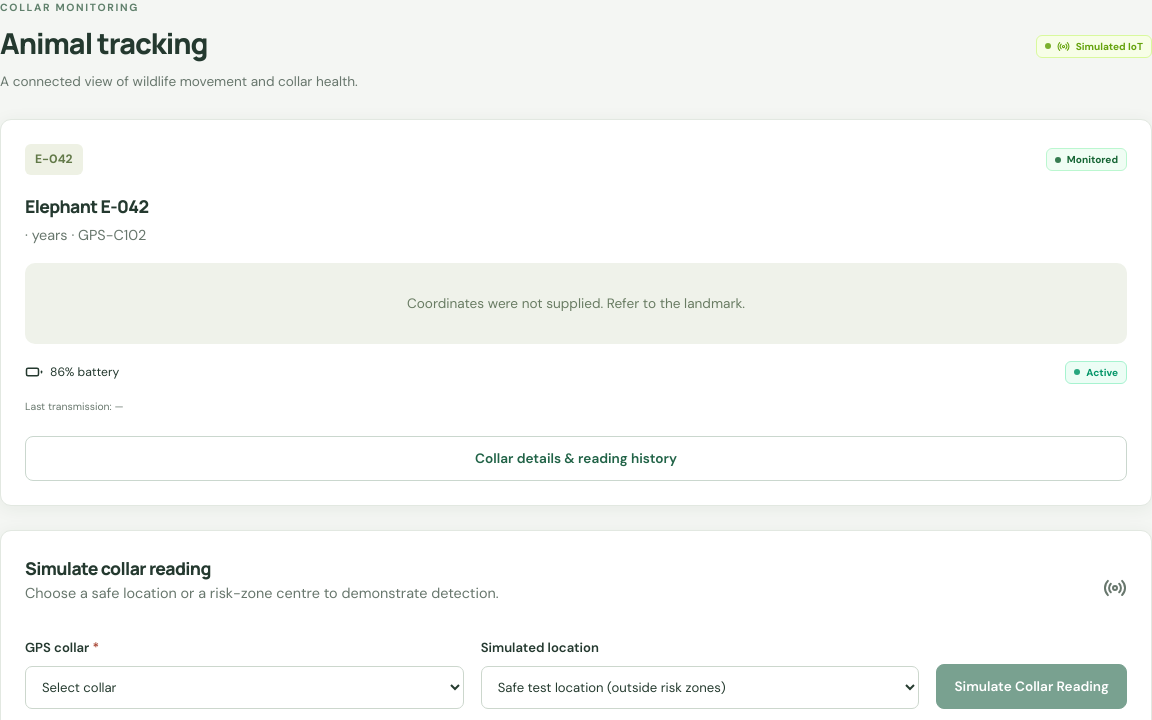
Test: Collar monitoring screen › loads saved collar reading history
This screenshot has width=1152, height=720.
Click the button "Collar details & reading history": point(576, 458) [25,436,1127,481]
(page scrolled)
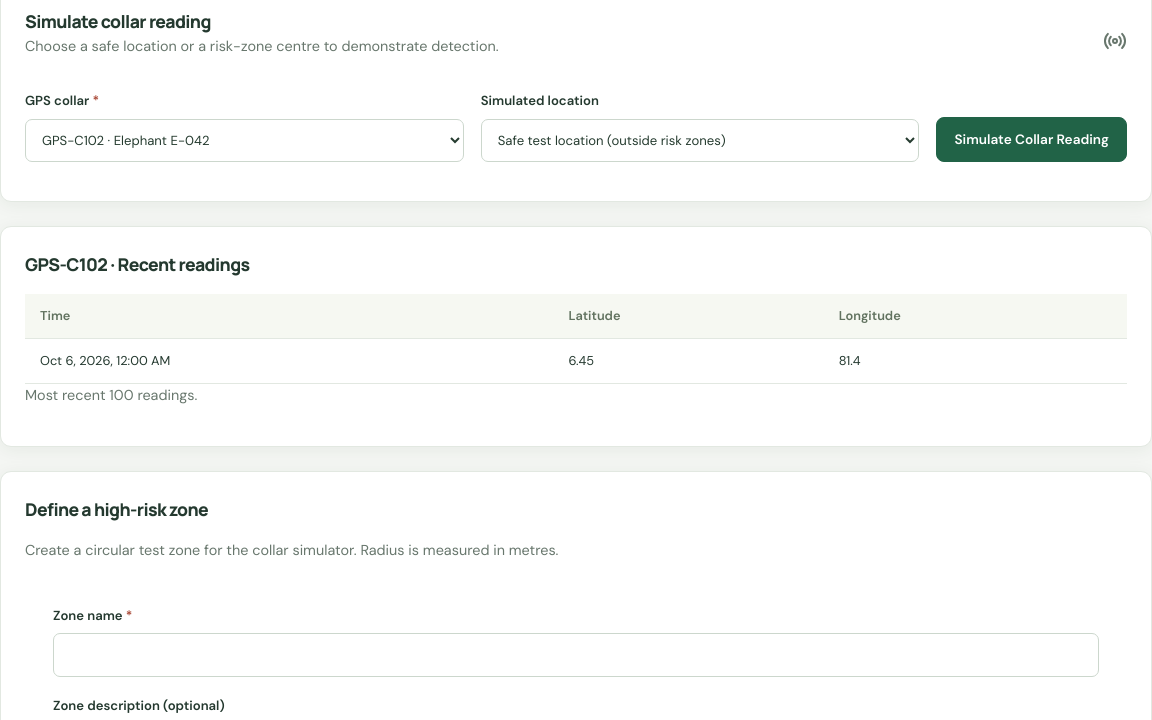
expect the heading "GPS-C102 · Recent readings" is shown: met, box [25,252,250,276]
expect the cell "6.45" is shown: met, box [554,338,824,383]
